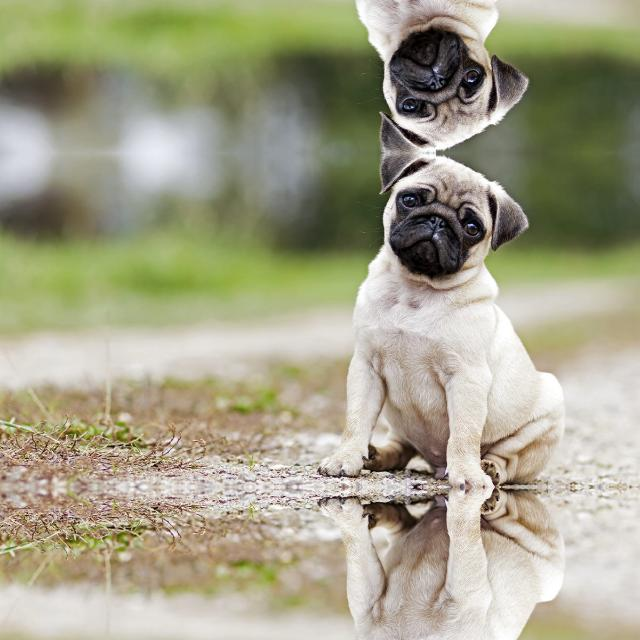dog: (336, 152, 566, 486), (336, 486, 566, 640), (336, 0, 566, 152)
